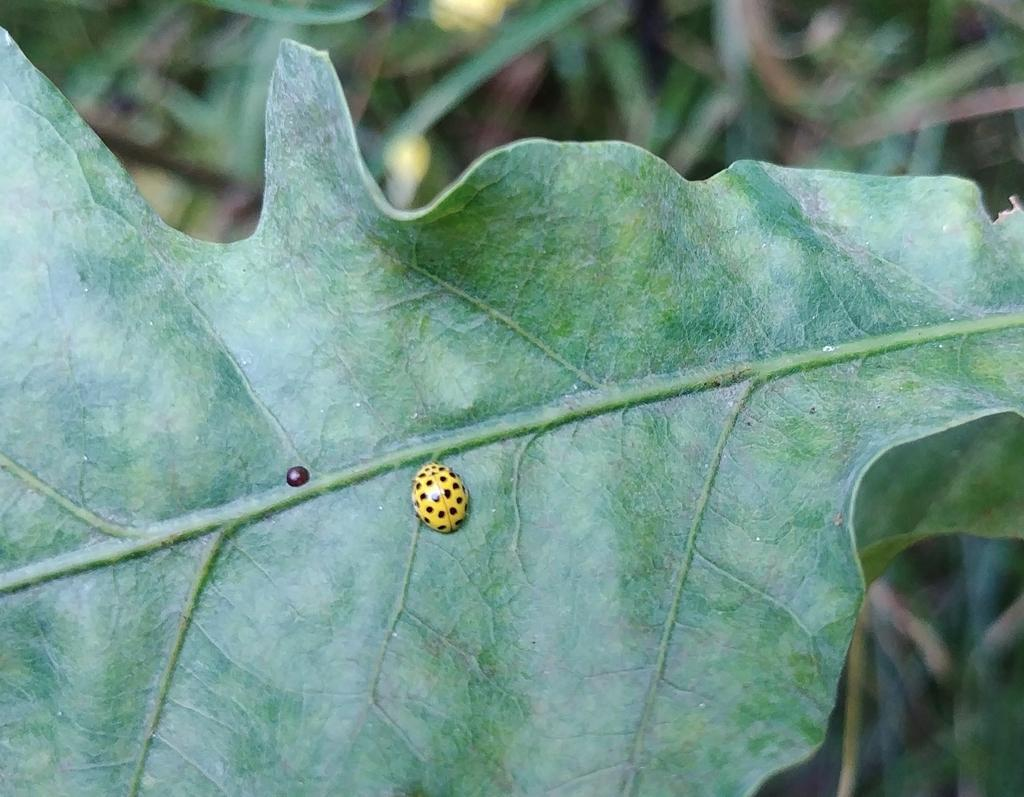ladybug: (412, 462, 472, 536)
